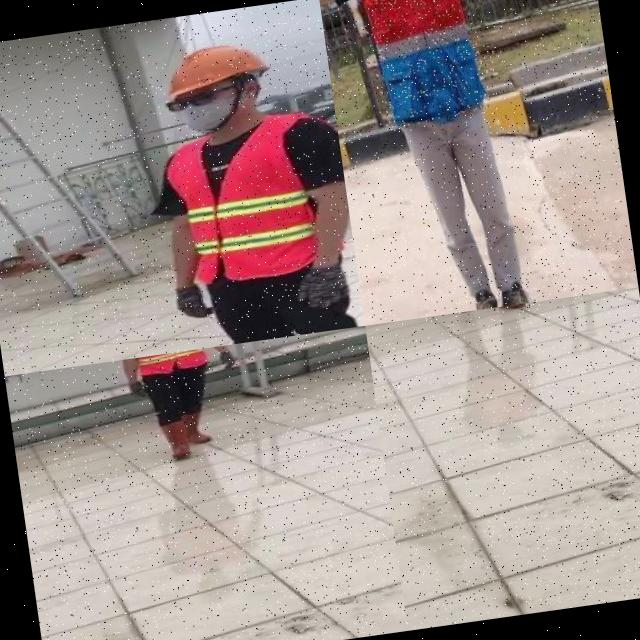boots: (150, 413, 202, 464), (491, 276, 546, 308), (178, 405, 216, 448), (464, 284, 505, 312)
helmet: (147, 30, 276, 102)
vest: (152, 105, 358, 300), (348, 0, 493, 134), (130, 348, 210, 380)
